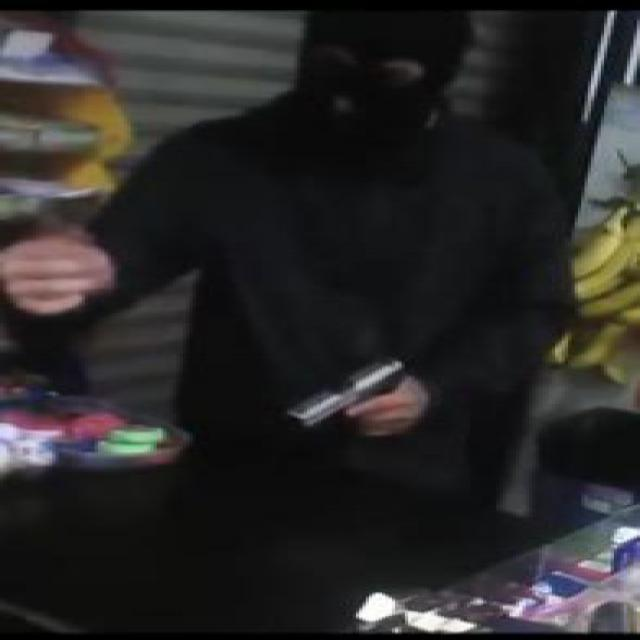gun: (278, 354, 412, 434)
